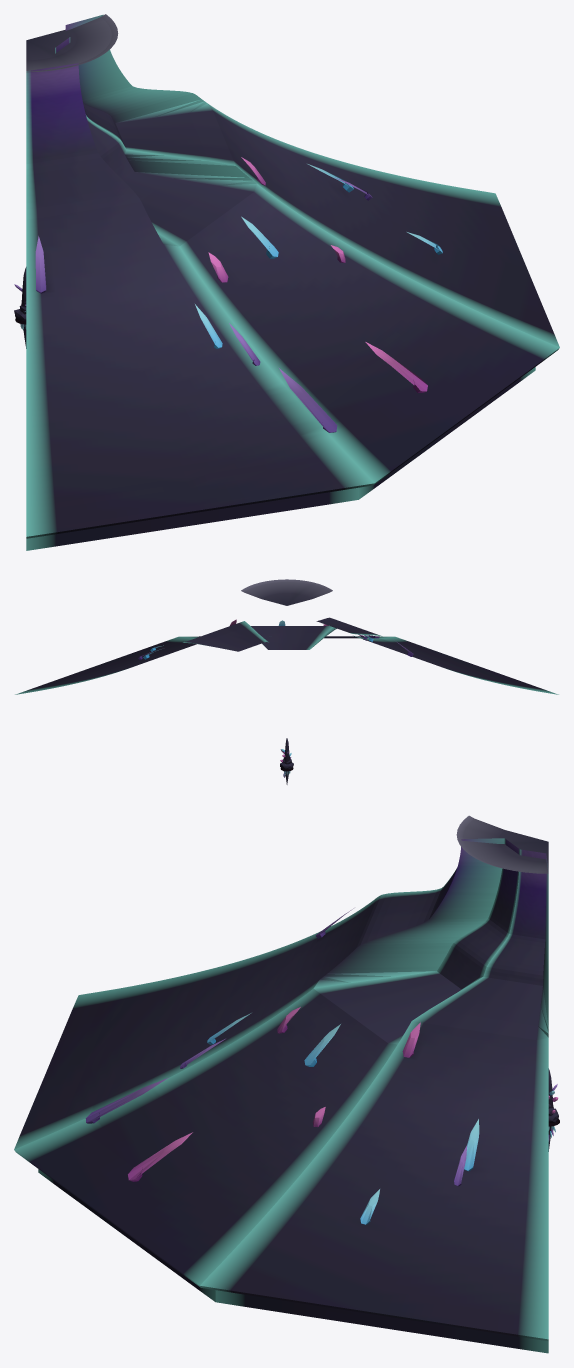
Rendered from caverns-s1-B_pdEsl9.glb.
The picture shows the model from 3 angles, top to bottom: view 1: azimuth 30°, elevation 25°; view 2: azimuth 150°, elevation 25°; view 3: azimuth 270°, elevation 25°; orthographic projection. The views are drawn at different scales.
Visible parts, largest first — view 1: sc_landmark_2; view 2: sc_landmark_2; view 3: sc_landmark_2.
Part boxes in pixels (x1,y1,x2,y2): sc_landmark_2: [26, 14, 559, 550]; sc_landmark_2: [15, 579, 558, 694]; sc_landmark_2: [14, 815, 548, 1353].
Bounding box in the file's own units: 646 × 278 × 433.
